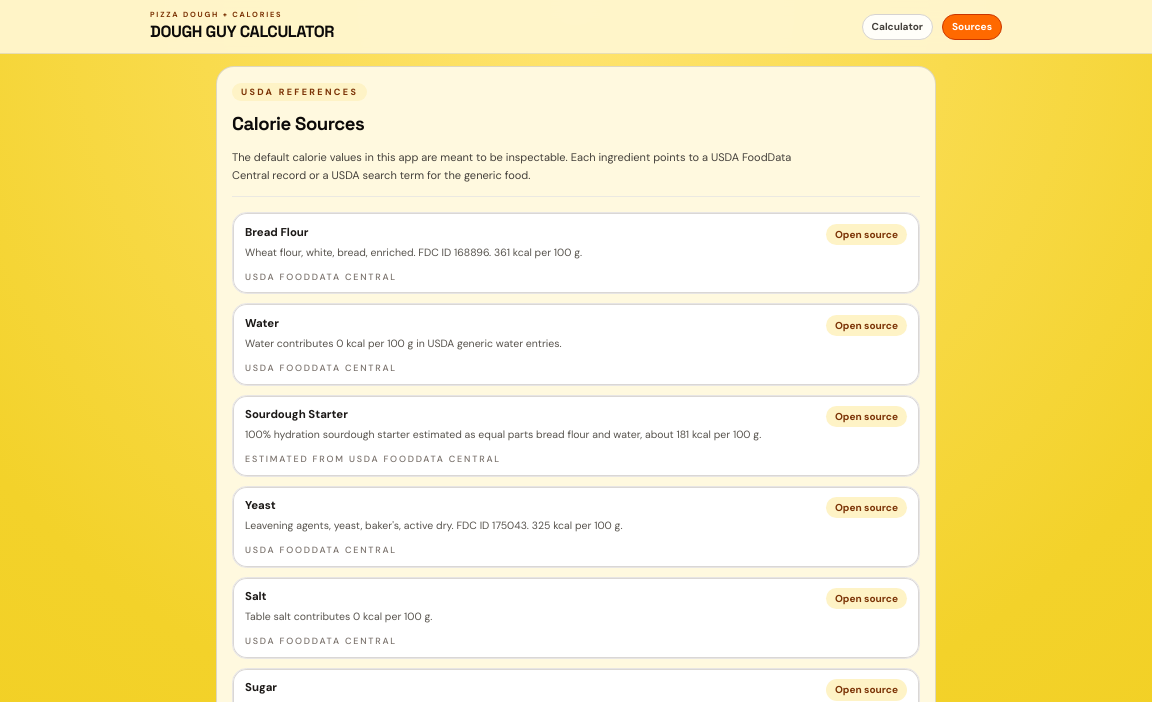
Test: App › supports hash-based navigation for static hosting
expect the heading "Calorie Sources" is shown: met, box [232,112,364,136]
Click the button "Calculator": click(897, 27) [862,14,933,40]
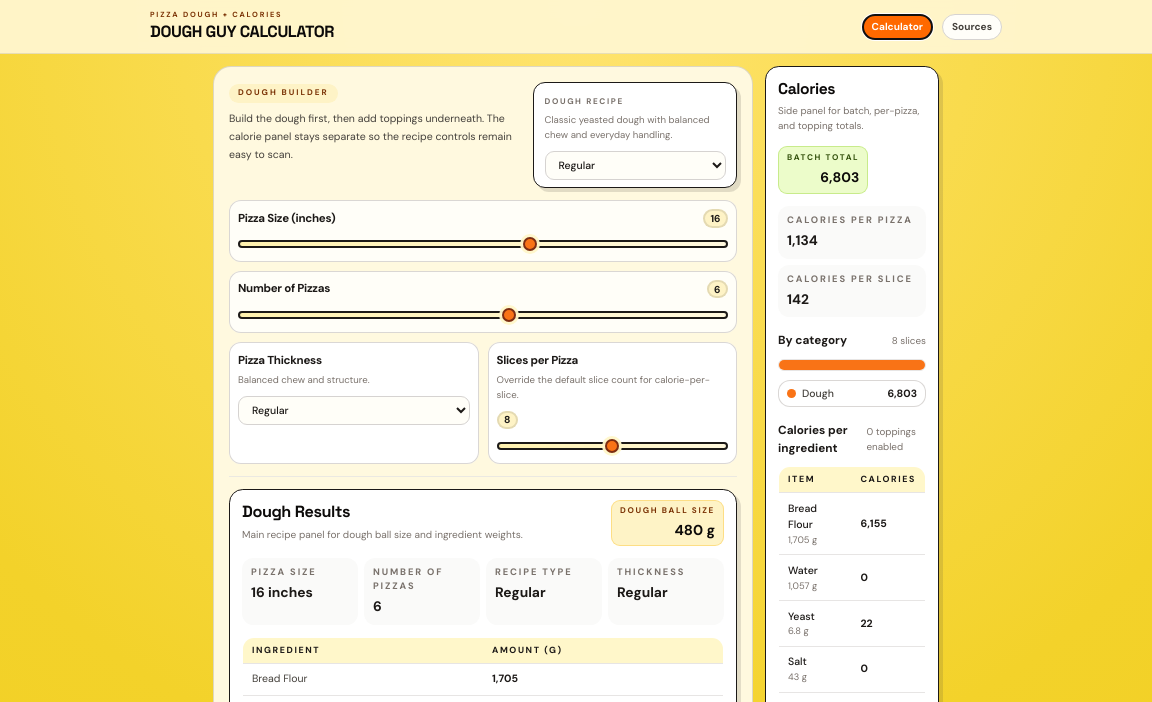
expect the text "Main recipe panel for dough ball size" is shown: met, box [242,528,523,541]
